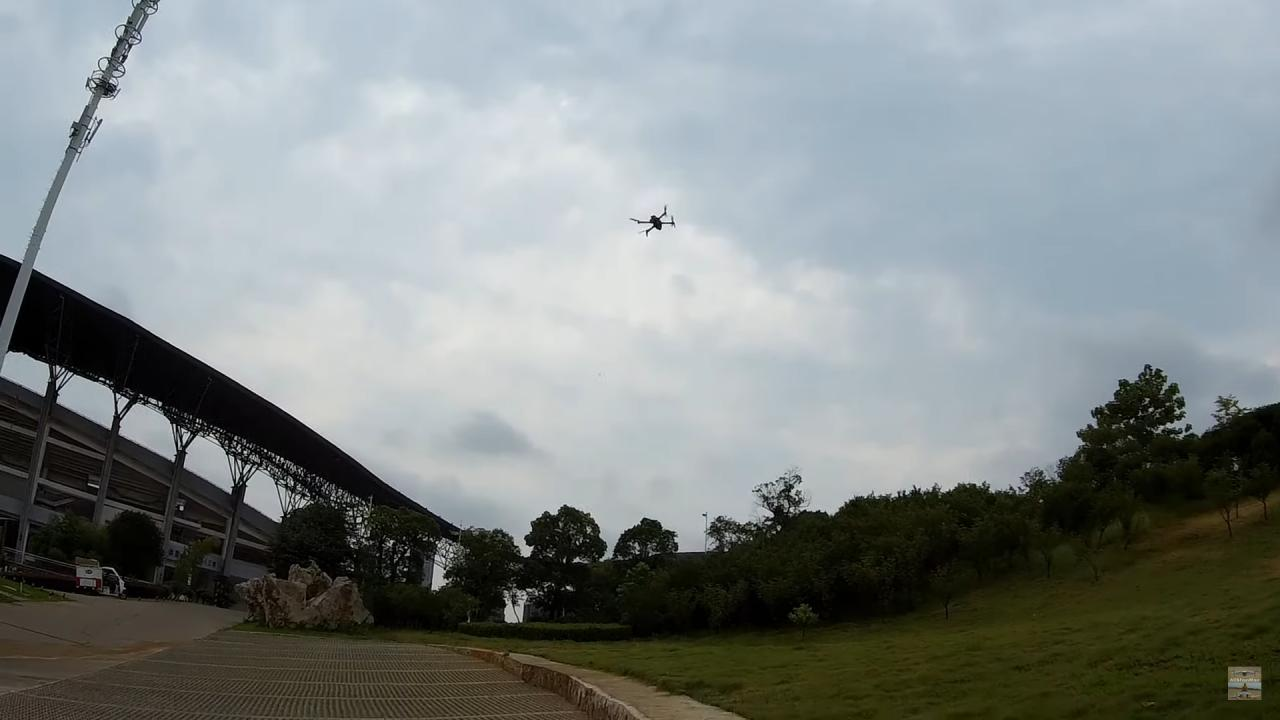Drone: (619, 197, 689, 244)
